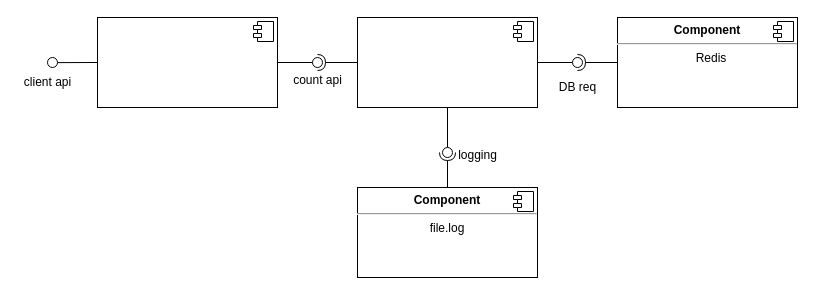
The diagram is 815 pixels wide and 295 high, and some of its shapes have lost their labels. Each missing label, with the centre of its shape:
"Component index.php" goes at point (447, 62).
"Component Nginx" goes at point (187, 62).
